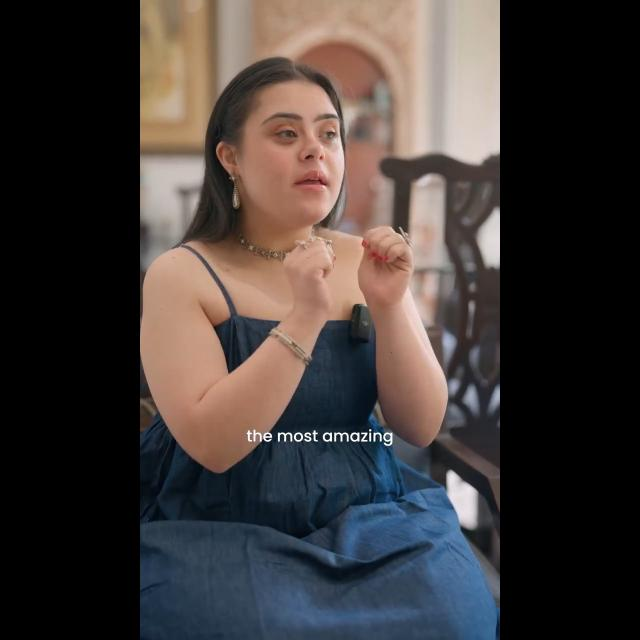dress: (144, 236, 450, 634)
ear ring: (228, 173, 250, 217)
